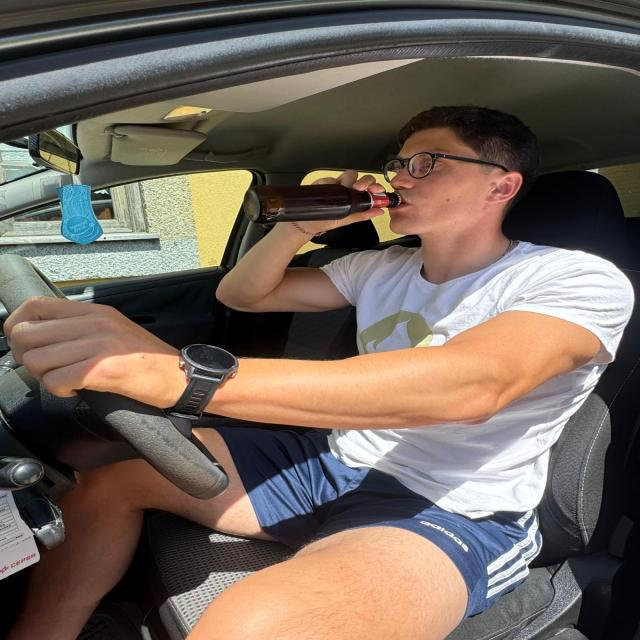Drinking: (219, 160, 436, 241)
